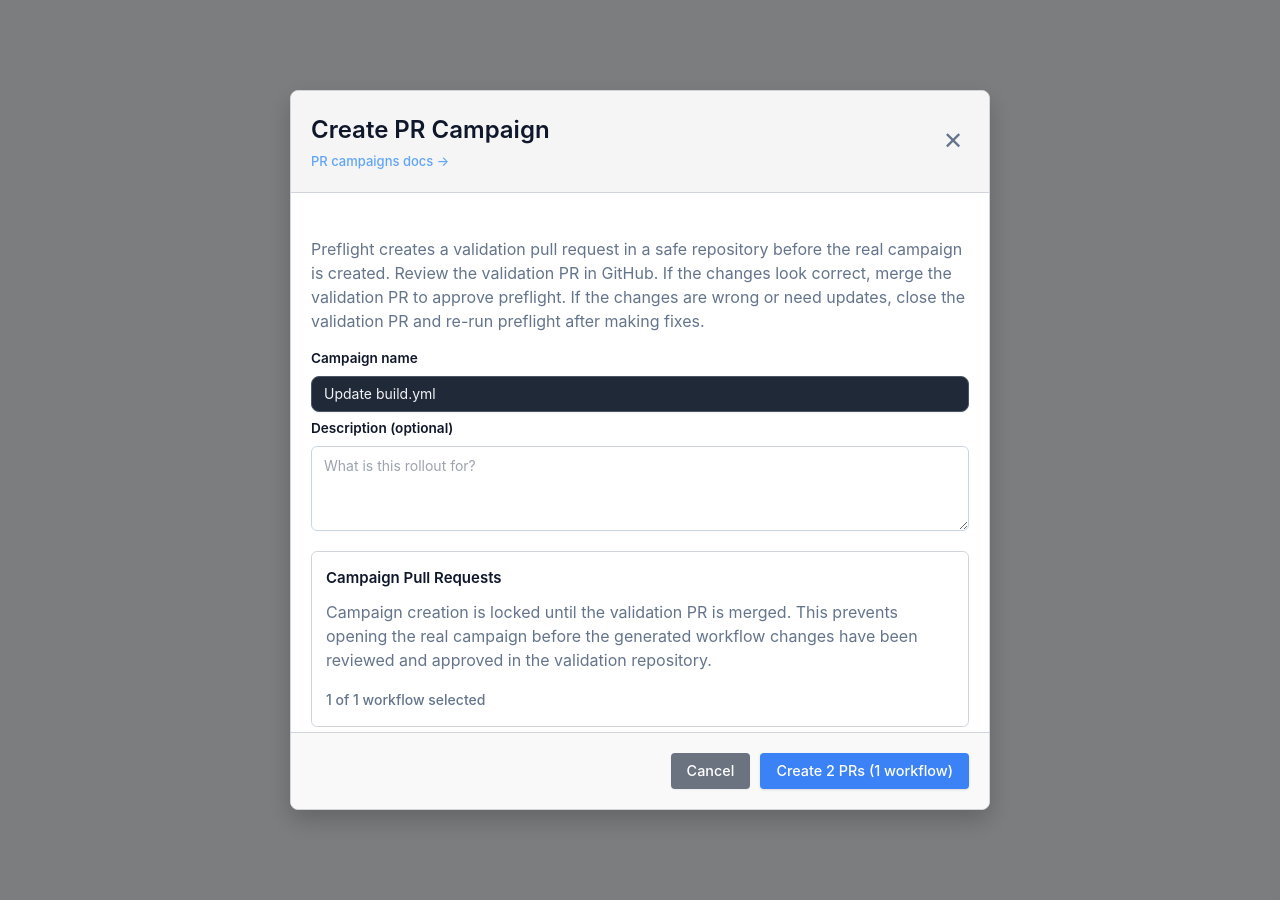
it: CreatePRModal › failure reasons on the results screen › lists per-file and per-workflow failures, not just the top-level one
The width and height of the screenshot is (1280, 900).
Click the button "Create 2 PRs (1 workflow)" at (865, 771), box [760,753,969,789]
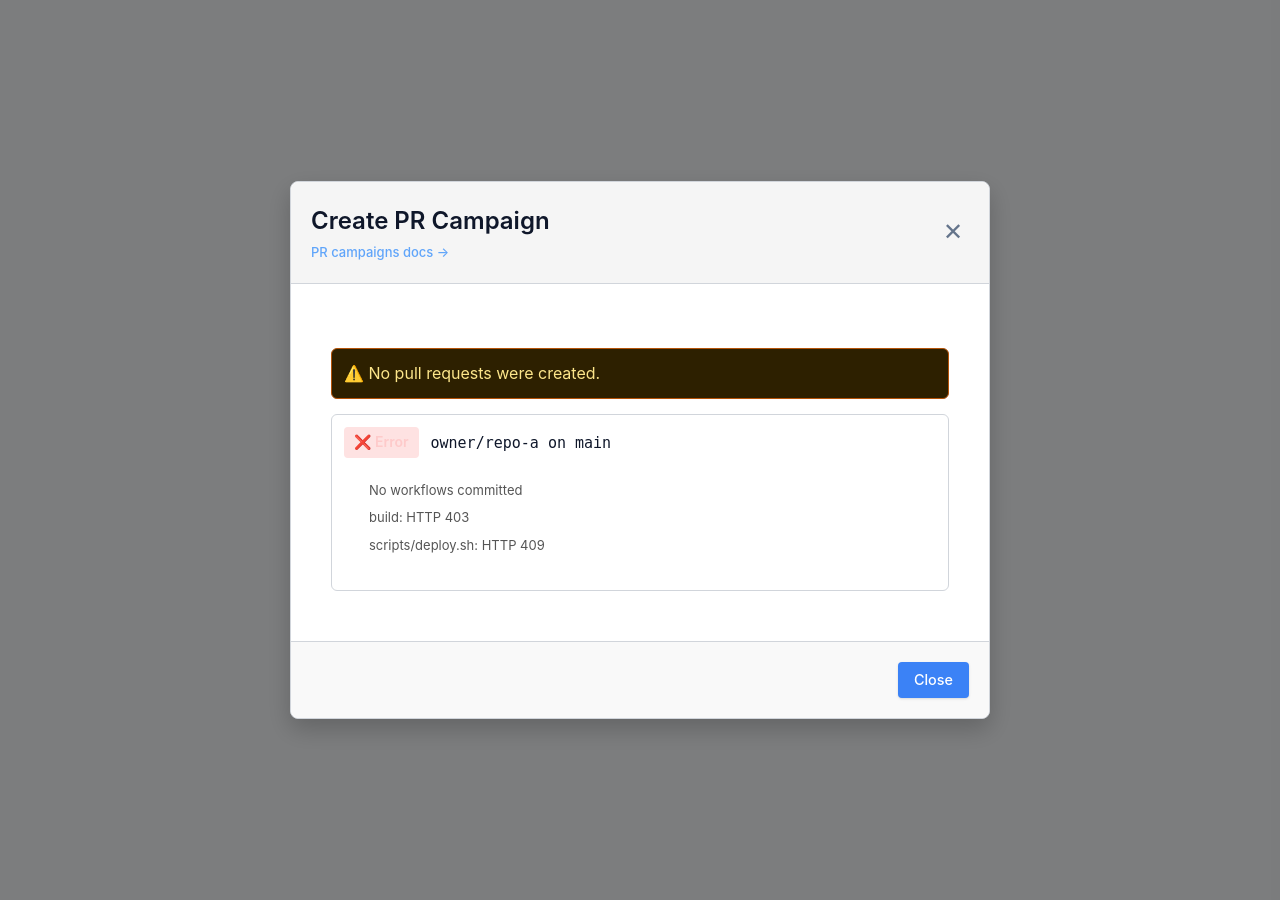
Check: the list with test id "pr-result-errors" shows "build: HTTP 403", box [369,509,469,525]
Check: the list with test id "pr-result-errors" shows "scripts/deploy.sh: HTTP 409", box [369,537,545,553]
